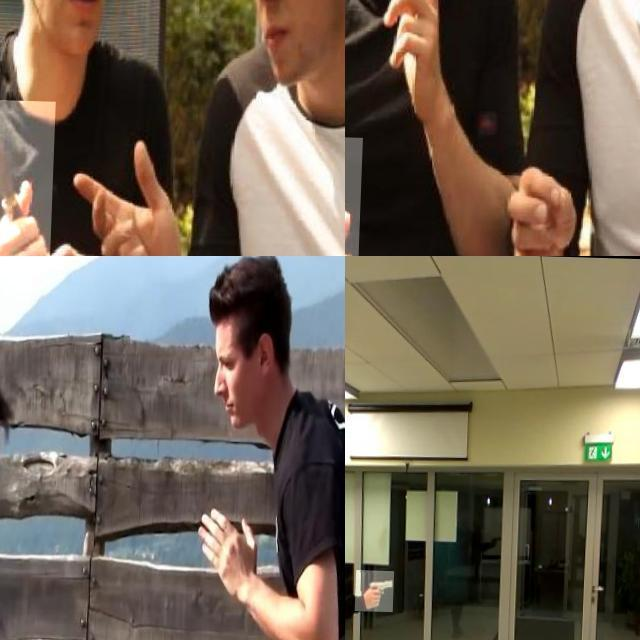-: (0, 98, 58, 256), (345, 135, 385, 256)
gun-knife-thesis - v11 Yolov5 augmented: (358, 568, 397, 610)
